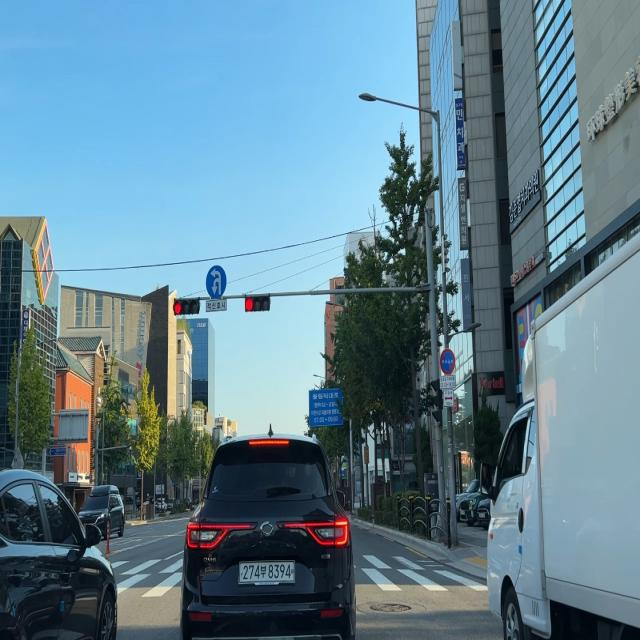Red Light: (245, 298, 253, 311), (174, 300, 181, 314)
